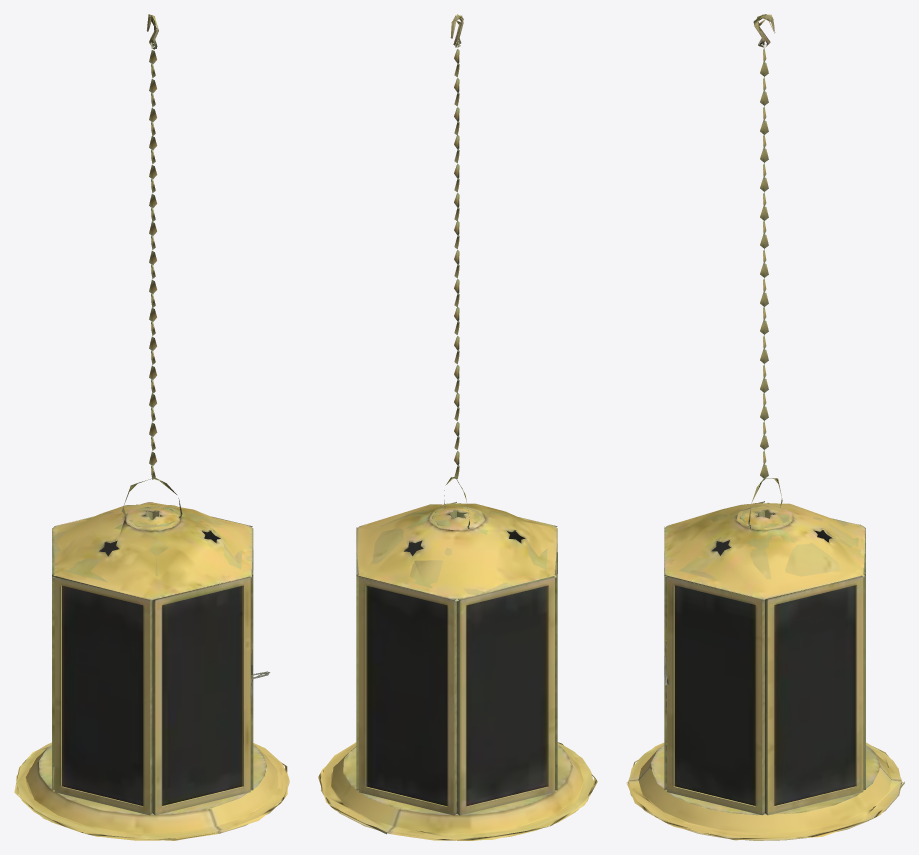
The model's file is ph_brass_diya_lantern.glb.
The picture shows the model from 3 angles, left to right: view 1: azimuth 30°, elevation 25°; view 2: azimuth 150°, elevation 25°; view 3: azimuth 270°, elevation 25°; orthographic projection.
Visible parts, largest first — view 1: brass_diya_lantern; view 2: brass_diya_lantern; view 3: brass_diya_lantern.
Boxes of the visible parts, bbox=[...] form: brass_diya_lantern: bbox=[14, 14, 289, 840]; brass_diya_lantern: bbox=[318, 14, 597, 840]; brass_diya_lantern: bbox=[626, 14, 904, 840].
Bounding box in the file's own units: 0.123 × 0.381 × 0.1252.
Materials: 1 (1 with a texture image).
